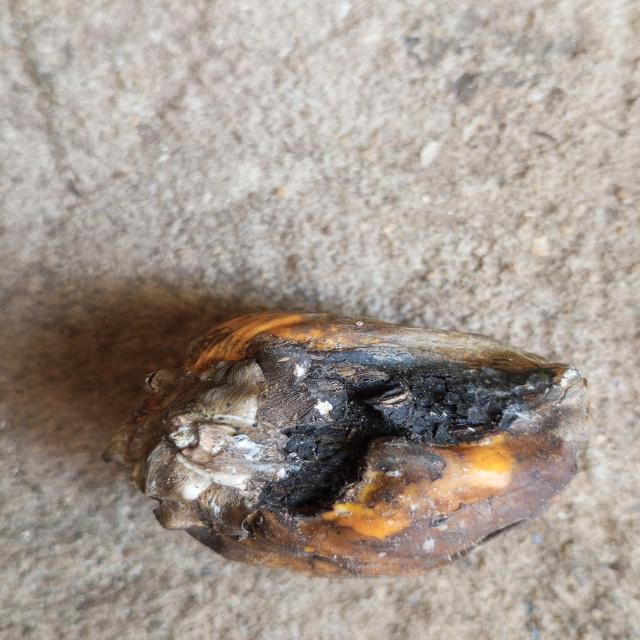damaged: (105, 312, 589, 577)
